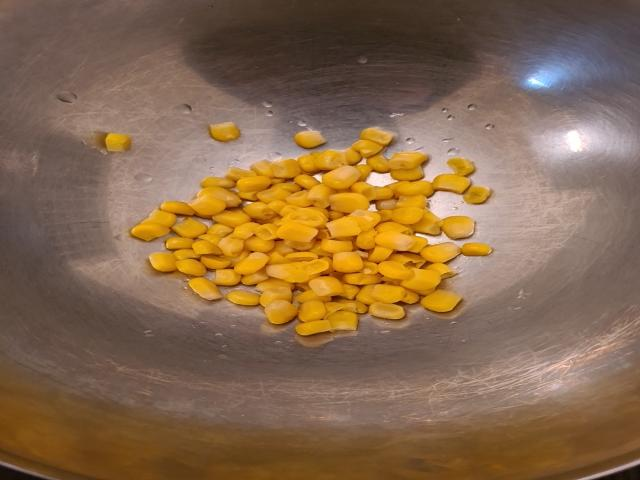kichen waste: (98, 121, 494, 336)
